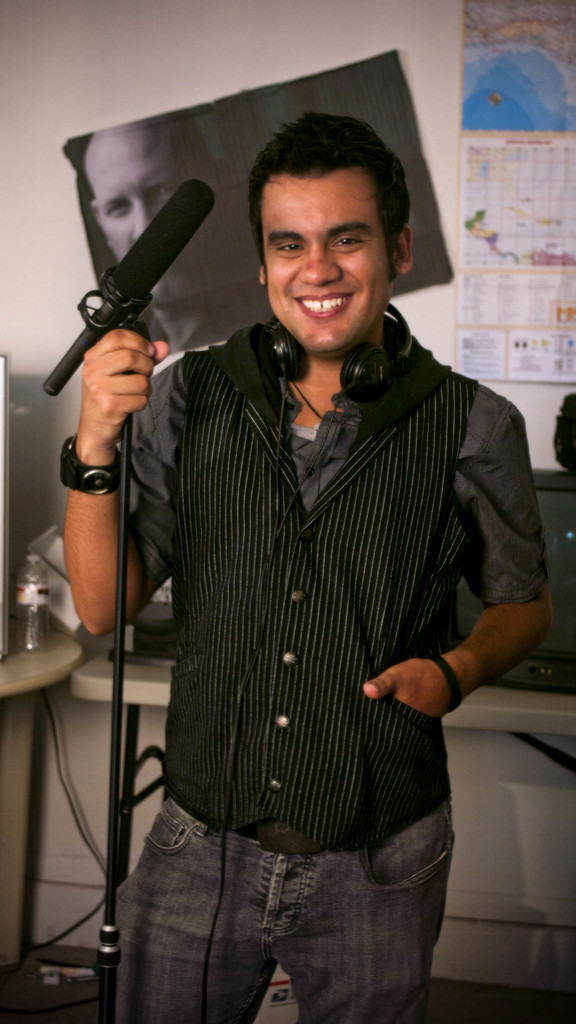Human_hand: (60, 320, 154, 420), (360, 655, 453, 722)
